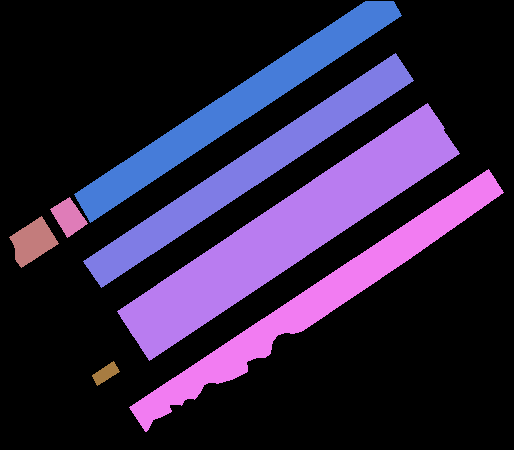parkingspot: (129, 169, 503, 431), (83, 53, 413, 287), (117, 103, 444, 336), (132, 127, 459, 360), (74, 1, 401, 222), (9, 216, 58, 267), (50, 197, 87, 237), (92, 361, 119, 385)
